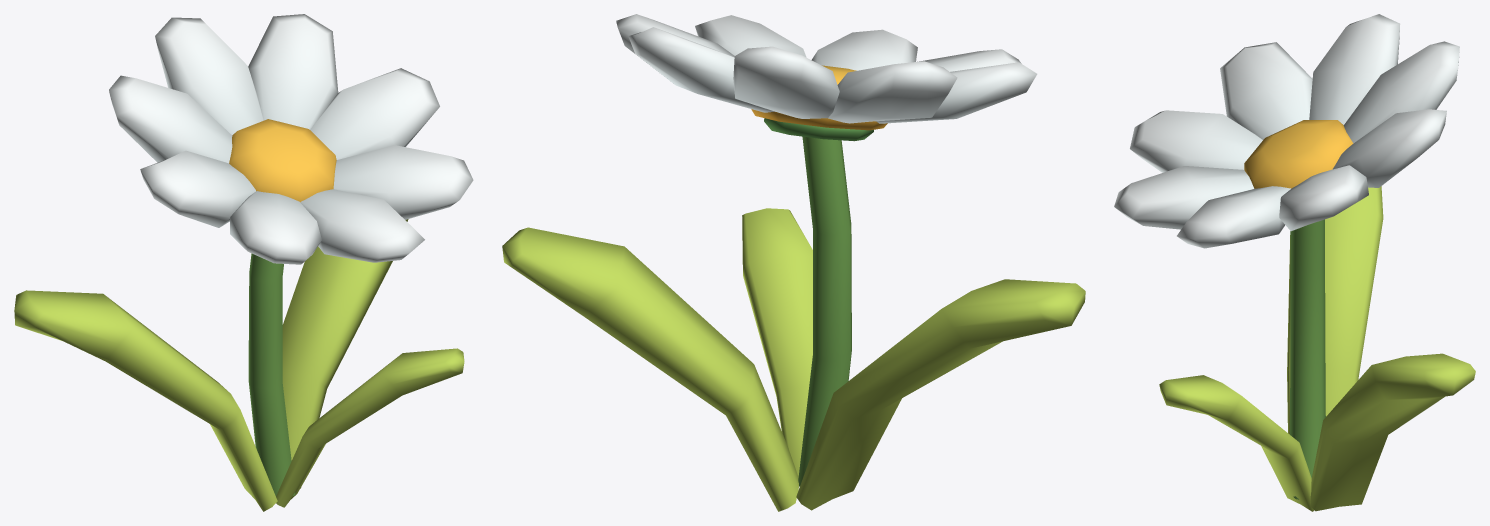
File: daisy.glb
The picture shows the model from 3 angles, left to right: view 1: azimuth 30°, elevation 25°; view 2: azimuth 150°, elevation 25°; view 3: azimuth 270°, elevation 25°; orthographic projection. The views are drawn at different scales.
Visible parts, largest first — view 1: daisy; view 2: daisy; view 3: daisy.
Boxes of the visible parts, left/top/right/bottom form: daisy: left=14, top=14, right=473, bottom=511; daisy: left=502, top=14, right=1085, bottom=511; daisy: left=1114, top=14, right=1475, bottom=511.
Size of the model in its own units: 0.311 by 0.2948 by 0.2195.
1 material, 1 textured.
